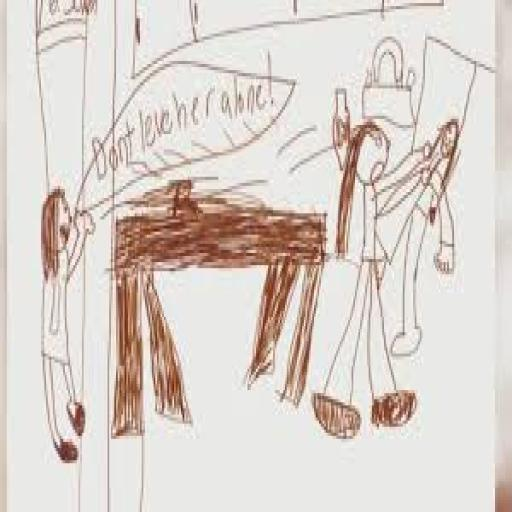person: (305, 74, 430, 464), (383, 112, 468, 378), (32, 176, 100, 485)
